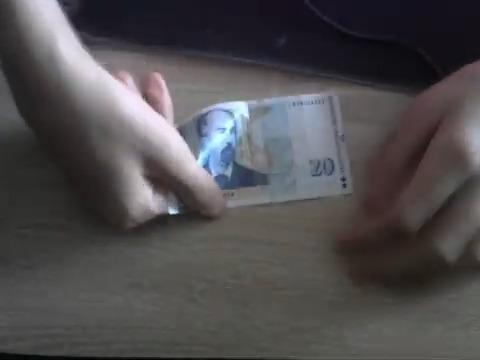20leva: (178, 93, 354, 209)
